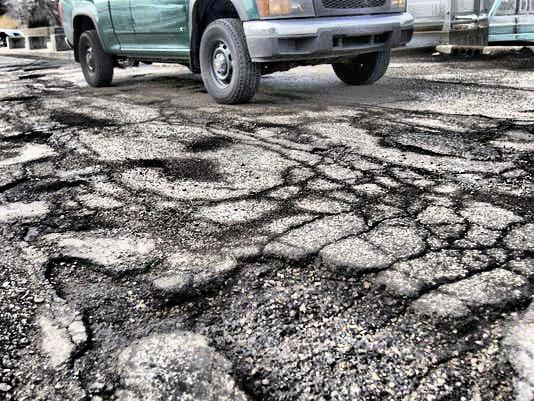pothole: (44, 252, 522, 401), (1, 158, 93, 210), (0, 124, 54, 149), (16, 74, 47, 81)
